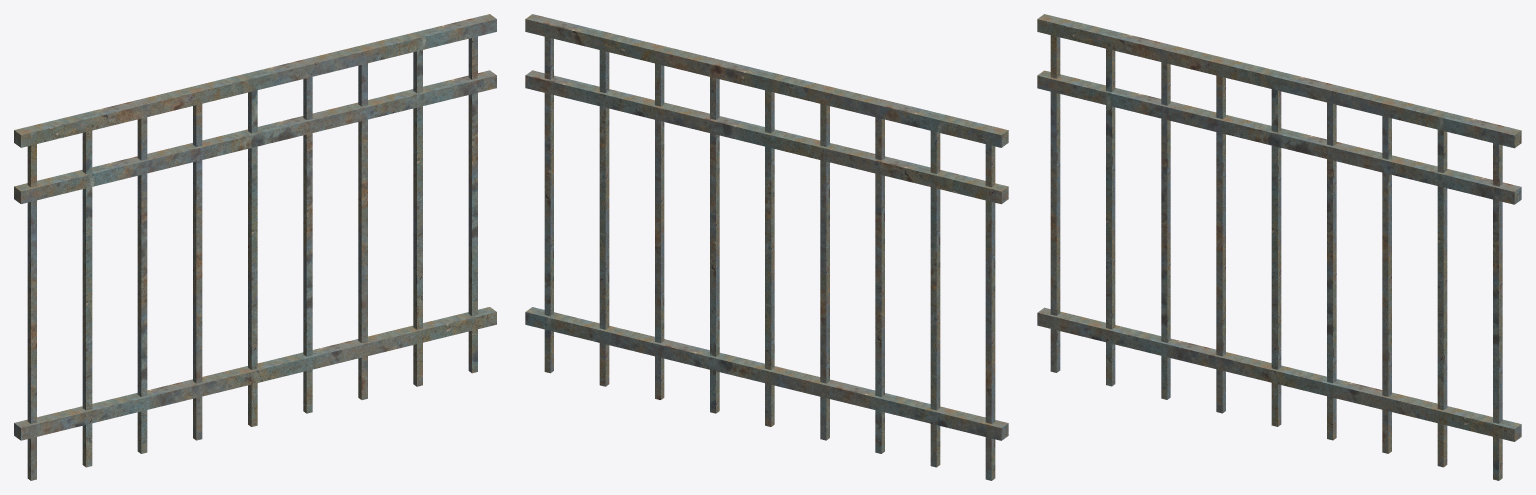
File: fence20.FBX
3 renders of one model, left to right at view 1: azimuth 30°, elevation 25°; view 2: azimuth 150°, elevation 25°; view 3: azimuth 330°, elevation 25°, orthographic.
Visible parts, largest first — view 1: metal_fence_small_mid_rail_full; view 2: metal_fence_small_mid_rail_full; view 3: metal_fence_small_mid_rail_full.
Part boxes in pixels (x1,y1,x2,y2): metal_fence_small_mid_rail_full: (14,14,496,480); metal_fence_small_mid_rail_full: (525,14,1008,480); metal_fence_small_mid_rail_full: (1037,14,1521,480).
Bounding box in the file's own units: 247 × 173 × 6.31.
